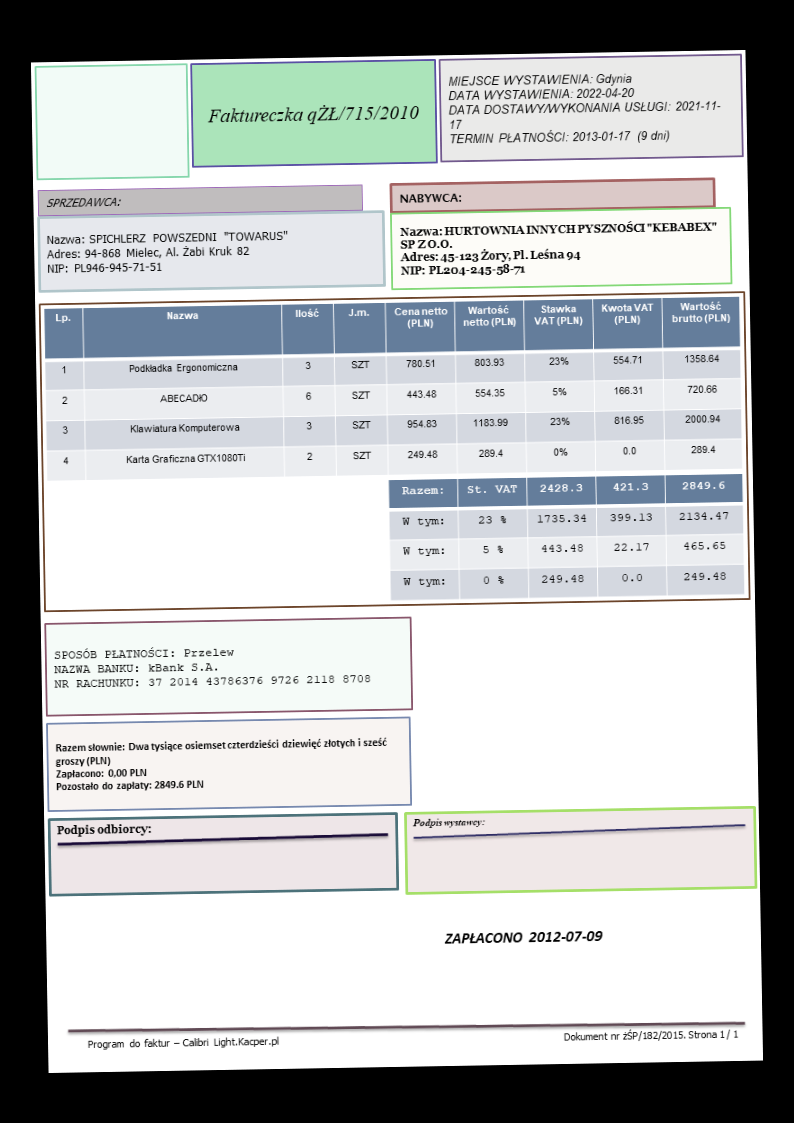Table: (42, 293, 741, 483), (387, 471, 746, 603)
TextBox: (446, 68, 723, 151), (53, 733, 389, 795), (397, 218, 722, 278), (51, 641, 373, 693), (43, 224, 291, 278), (203, 100, 421, 128), (84, 1032, 280, 1053), (562, 1025, 741, 1045), (442, 926, 605, 947), (53, 818, 152, 840), (44, 192, 121, 210), (409, 812, 485, 830), (396, 189, 462, 207)
